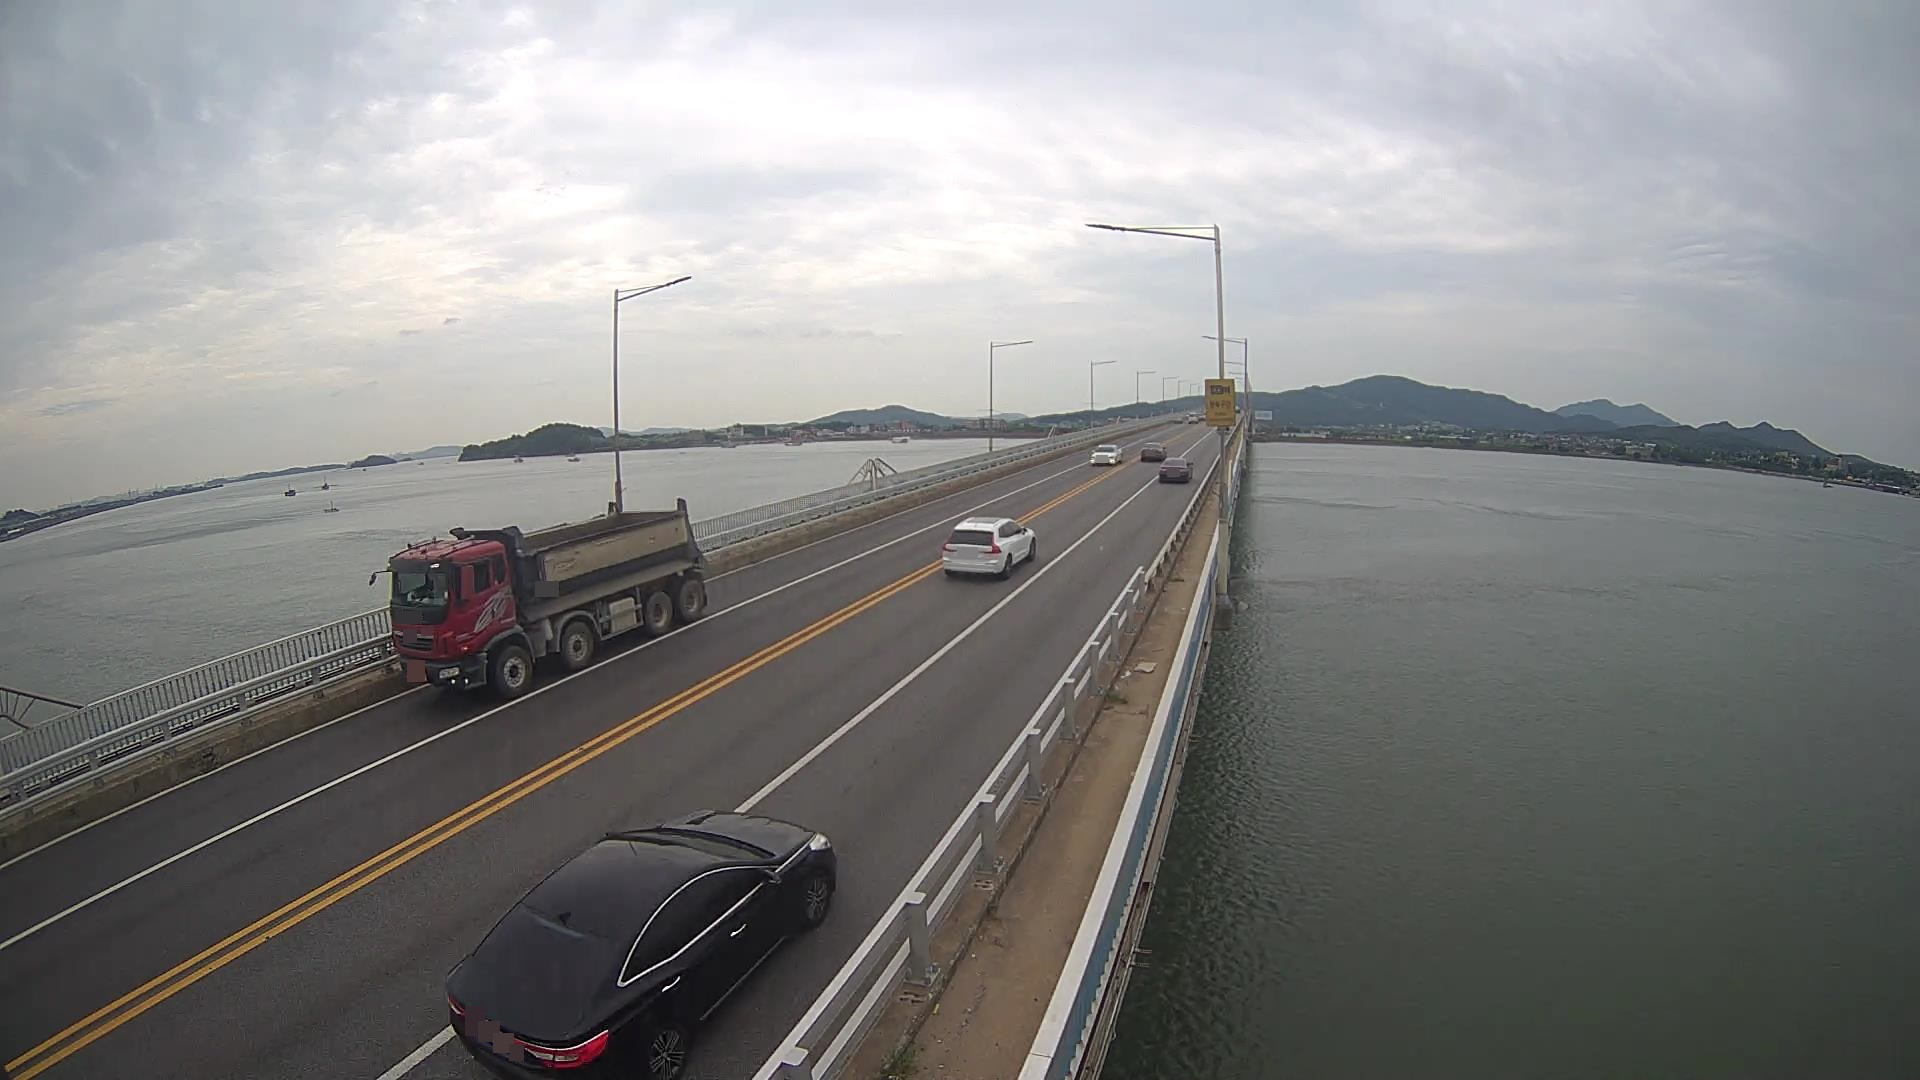정상차량: (369, 497, 711, 700)
